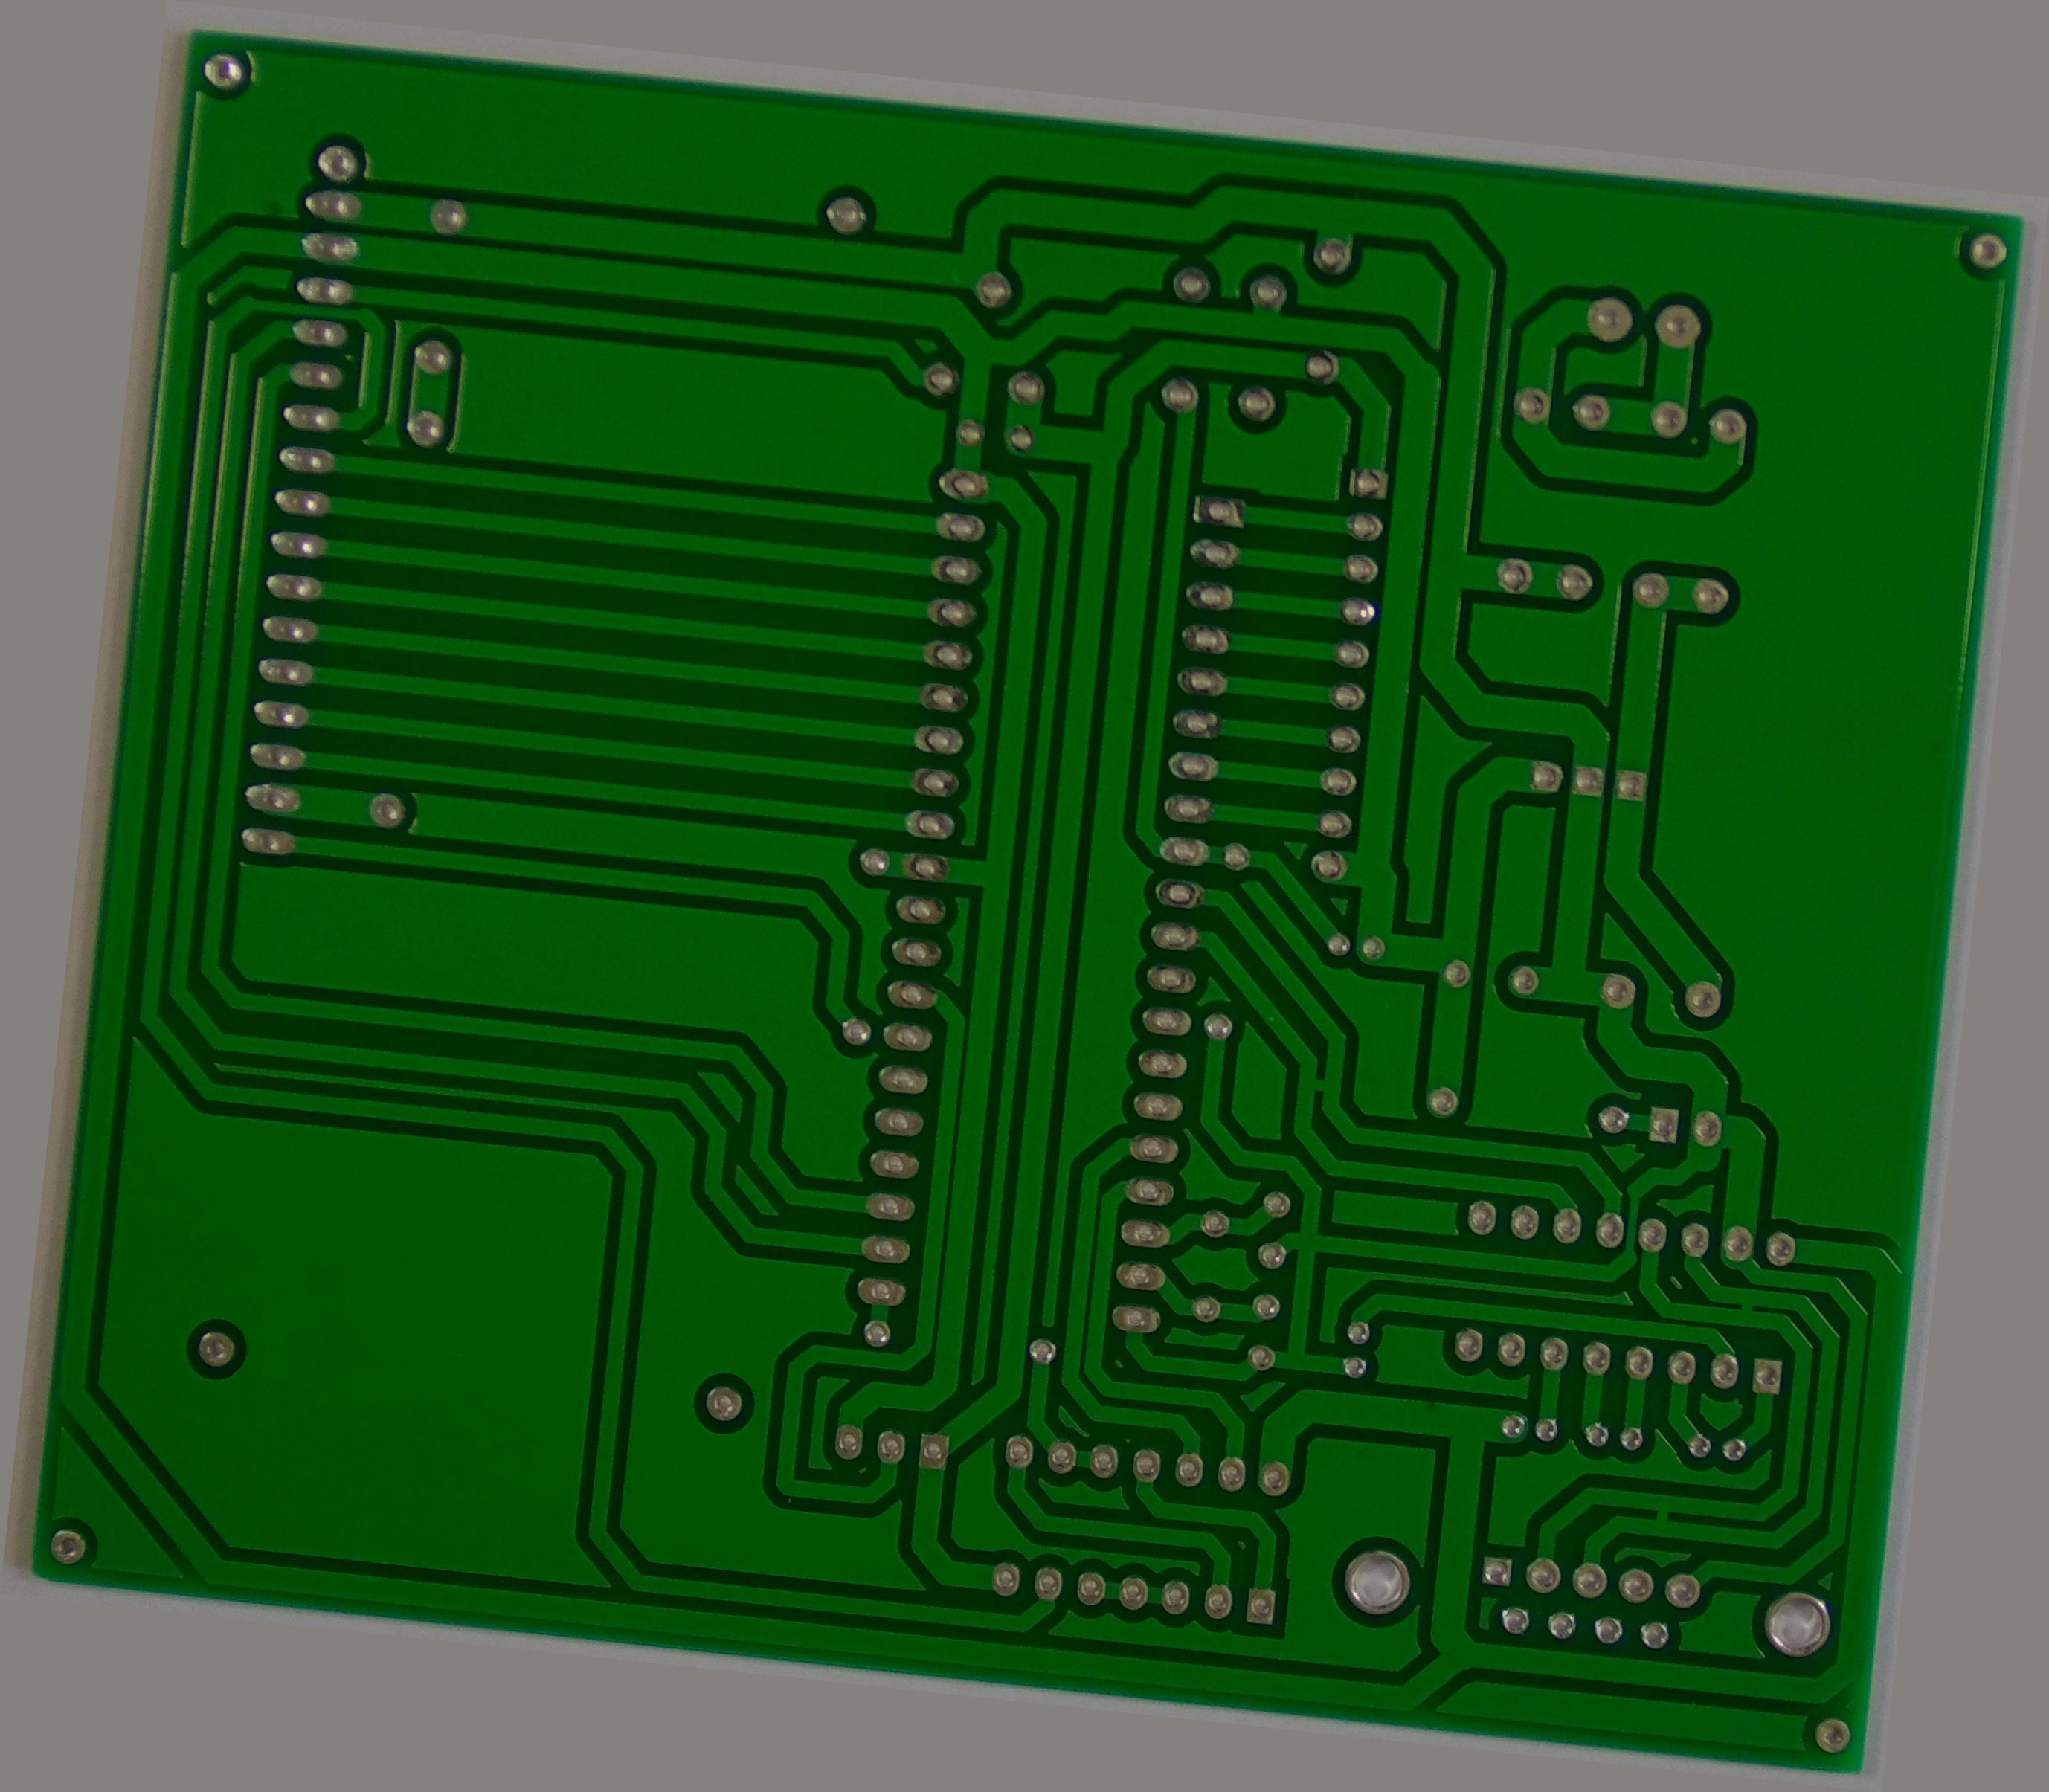short: (1622, 1480, 1697, 1550), (1286, 1052, 1347, 1115), (1721, 1277, 1775, 1327)
